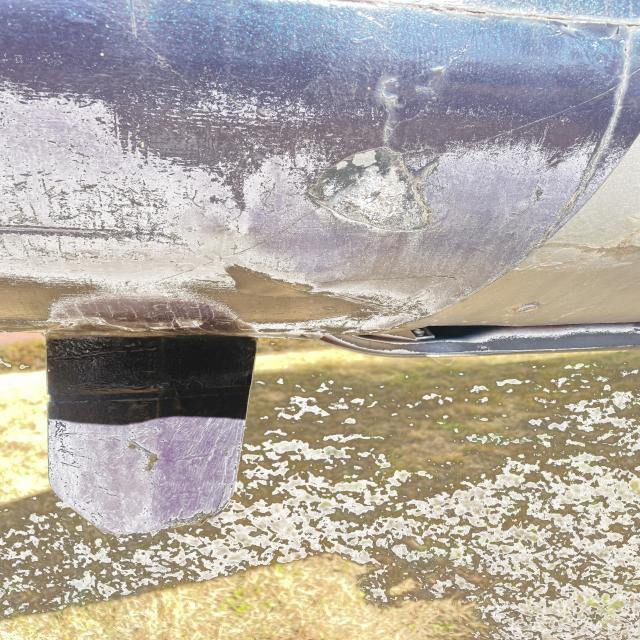crack: (366, 76, 436, 107)
dent: (296, 144, 448, 233)
